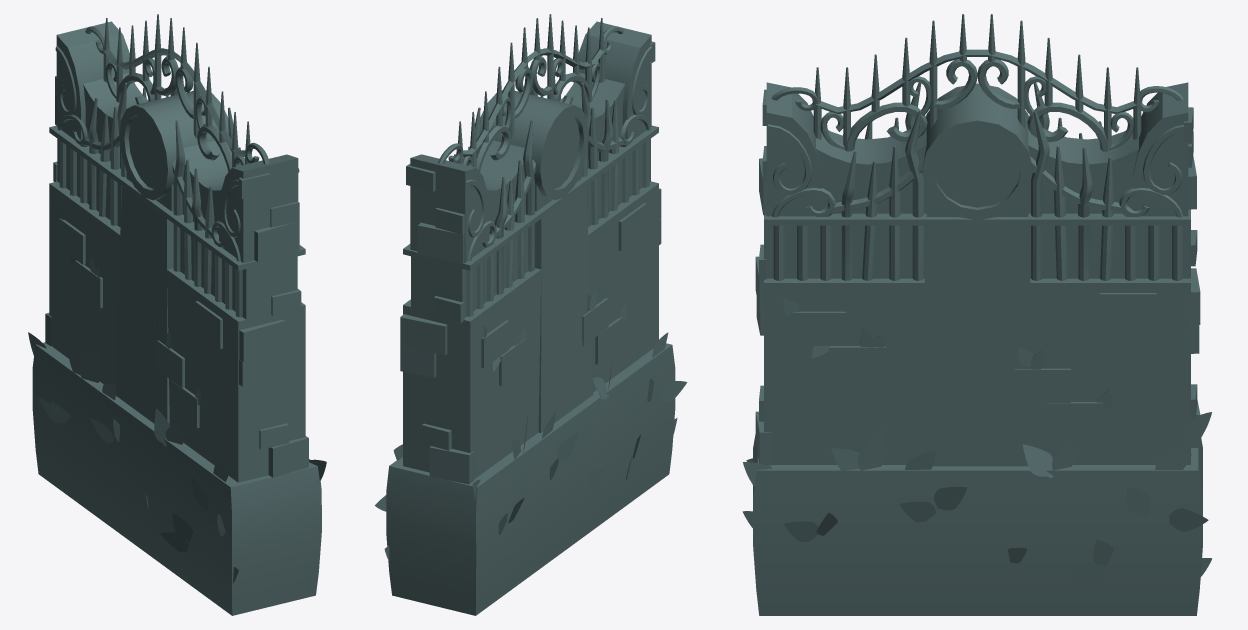
File: SM_wallBlock_01.fbx
3 renders of one model, left to right at view 1: azimuth 30°, elevation 25°; view 2: azimuth 150°, elevation 25°; view 3: azimuth 270°, elevation 25°, orthographic. The views are drawn at different scales.
Parts seen in each view (by area): view 1: SM_Wallblock_01; view 2: SM_Wallblock_01; view 3: SM_Wallblock_01.
Part boxes in pixels (box(x1,y1,x2,y2)): SM_Wallblock_01: box(28, 14, 326, 615); SM_Wallblock_01: box(374, 14, 687, 615); SM_Wallblock_01: box(742, 14, 1212, 615).
Size of the model in its own units: 2.17 by 7.52 by 6.04.
